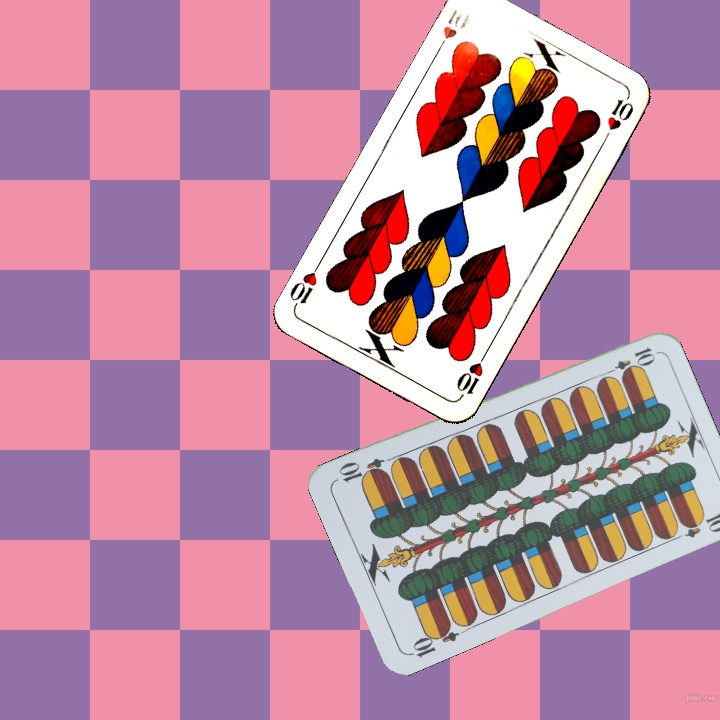E10: (405, 619, 461, 661), (600, 343, 658, 380)
H10: (432, 5, 473, 56), (452, 348, 490, 402)
